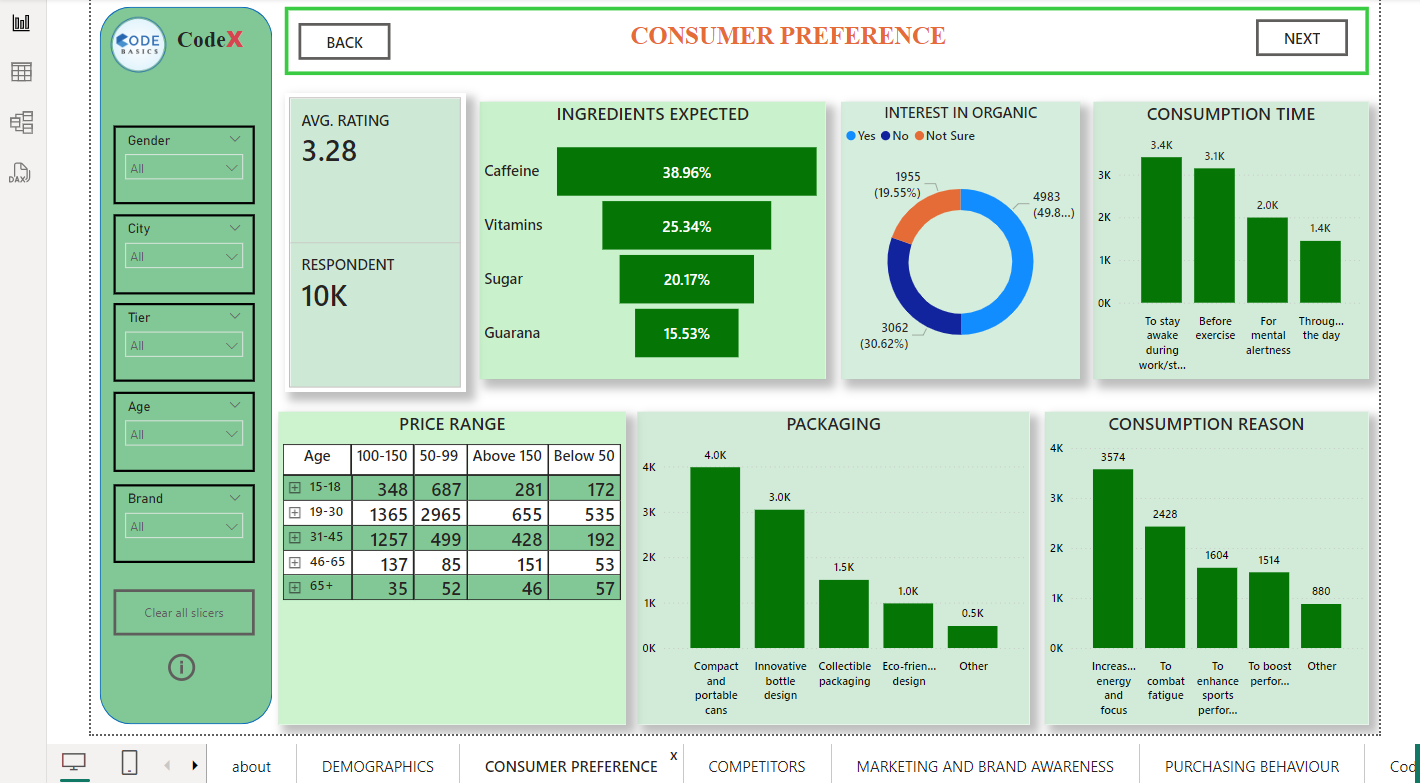

What the dashboard file says about the page in this screenshot:
{"tool":"powerbi","page":{"name":"CONSUMER PREFERENCE","canvas":[1400,800],"ordinal":2},"visuals":[{"type":"shape","box":[9.5,9.5,187.5,779.9],"z":0},{"type":"image","box":[0,13.6,103.3,74.7],"z":1000},{"type":"textbox","box":[88.3,21.7,90,53.3],"z":2000},{"type":"shape","box":[210,10,1178.6,74.3],"z":3000},{"type":"cardVisual","fields":{"Data":["survey_response_list.TASTE_RATING","survey_response_list.RESPONDENTS_PARTICULAR"]},"box":[210,103.3,196.7,325],"z":4000},{"type":"pivotTable","title":" PRICE RANGE","fields":{"Rows":["respondent_list.Age","respondent_list.Gender"],"Columns":["survey_response_list.Price_range"],"Values":["survey_response_list.PRICE CALCULATION"]},"box":[203.8,449.7,377.7,339.7],"z":5000},{"type":"pieChart","title":"INTEREST IN ORGANIC","fields":{"Category":["survey_response_list.Interest_in_natural_or_organic"],"Y":["survey_response_list.INTREST IN N/ORG"]},"box":[815,113.3,260,301.7],"z":6000},{"type":"clusteredColumnChart","title":"PACKAGING","fields":{"Category":["survey_response_list.Packaging_preference"],"Y":["respondent_list.total count"]},"box":[593.3,450,426.7,340],"z":7000},{"type":"clusteredColumnChart","title":"CONSUMPTION TIME","fields":{"Y":["respondent_list.total count"],"Category":["survey_response_list.Consume_time"]},"box":[1089.7,112.8,298.9,301.6],"z":8000},{"type":"slicer","fields":{"Values":["respondent_list.Gender"]},"box":[24.5,138.6,153.5,85.6],"z":9000},{"type":"slicer","fields":{"Values":["response_city_list.City"]},"box":[24.5,235.1,153.5,87],"z":10000},{"type":"slicer","fields":{"Values":["response_city_list.Tier"]},"box":[24.5,331.5,153.5,85.6],"z":11000},{"type":"slicer","fields":{"Values":["respondent_list.Age"]},"box":[24.5,428,153.5,87],"z":12000},{"type":"slicer","fields":{"Values":["survey_response_list.Current_brands"]},"box":[24.5,528.5,153.5,85.6],"z":13000},{"type":"actionButton","box":[24.5,642.7,153.5,50.3],"z":14000},{"type":"actionButton","box":[78.8,707.9,99.2,39.4],"z":15000},{"type":"textbox","box":[581.5,21.7,466,48.9],"z":16000},{"type":"actionButton","box":[1265.7,22.9,100,40],"z":17000},{"type":"actionButton","box":[225.7,27.1,100,40],"z":18000},{"type":"funnel","title":"INGREDIENTS EXPECTED","fields":{"Category":["survey_response_list.Ingredients_expected"],"Y":["survey_response_list.INGREDIENTS EXPECTED"]},"box":[422.6,112.8,376.4,301.6],"z":19000},{"type":"clusteredColumnChart","title":"CONSUMPTION REASON","fields":{"Y":["respondent_list.total count"],"Category":["survey_response_list.Consume_reason"]},"box":[1036.7,450,351.7,340],"z":20000}]}

Visuals, with their boxes on the page's 1400x800 design canvas (x1, y1, x2, y2). These are canvas units, not pixel positions in the 1420x783 screenshot, which may show the page scaled, cropped or inside an application window:
shape: crop(10, 10, 197, 789)
image: crop(0, 14, 103, 88)
textbox: crop(88, 22, 178, 75)
shape: crop(210, 10, 1389, 84)
cardVisual - survey_response_list.TASTE_RATING x survey_response_list.RESPONDENTS_PARTICULAR: crop(210, 103, 407, 428)
" PRICE RANGE" pivotTable: crop(204, 450, 582, 789)
"INTEREST IN ORGANIC" pieChart: crop(815, 113, 1075, 415)
"PACKAGING" clusteredColumnChart: crop(593, 450, 1020, 790)
"CONSUMPTION TIME" clusteredColumnChart: crop(1090, 113, 1389, 414)
slicer - respondent_list.Gender: crop(24, 139, 178, 224)
slicer - response_city_list.City: crop(24, 235, 178, 322)
slicer - response_city_list.Tier: crop(24, 332, 178, 417)
slicer - respondent_list.Age: crop(24, 428, 178, 515)
slicer - survey_response_list.Current_brands: crop(24, 528, 178, 614)
actionButton: crop(24, 643, 178, 693)
actionButton: crop(79, 708, 178, 747)
textbox: crop(582, 22, 1048, 71)
actionButton: crop(1266, 23, 1366, 63)
actionButton: crop(226, 27, 326, 67)
"INGREDIENTS EXPECTED" funnel: crop(423, 113, 799, 414)
"CONSUMPTION REASON" clusteredColumnChart: crop(1037, 450, 1388, 790)
